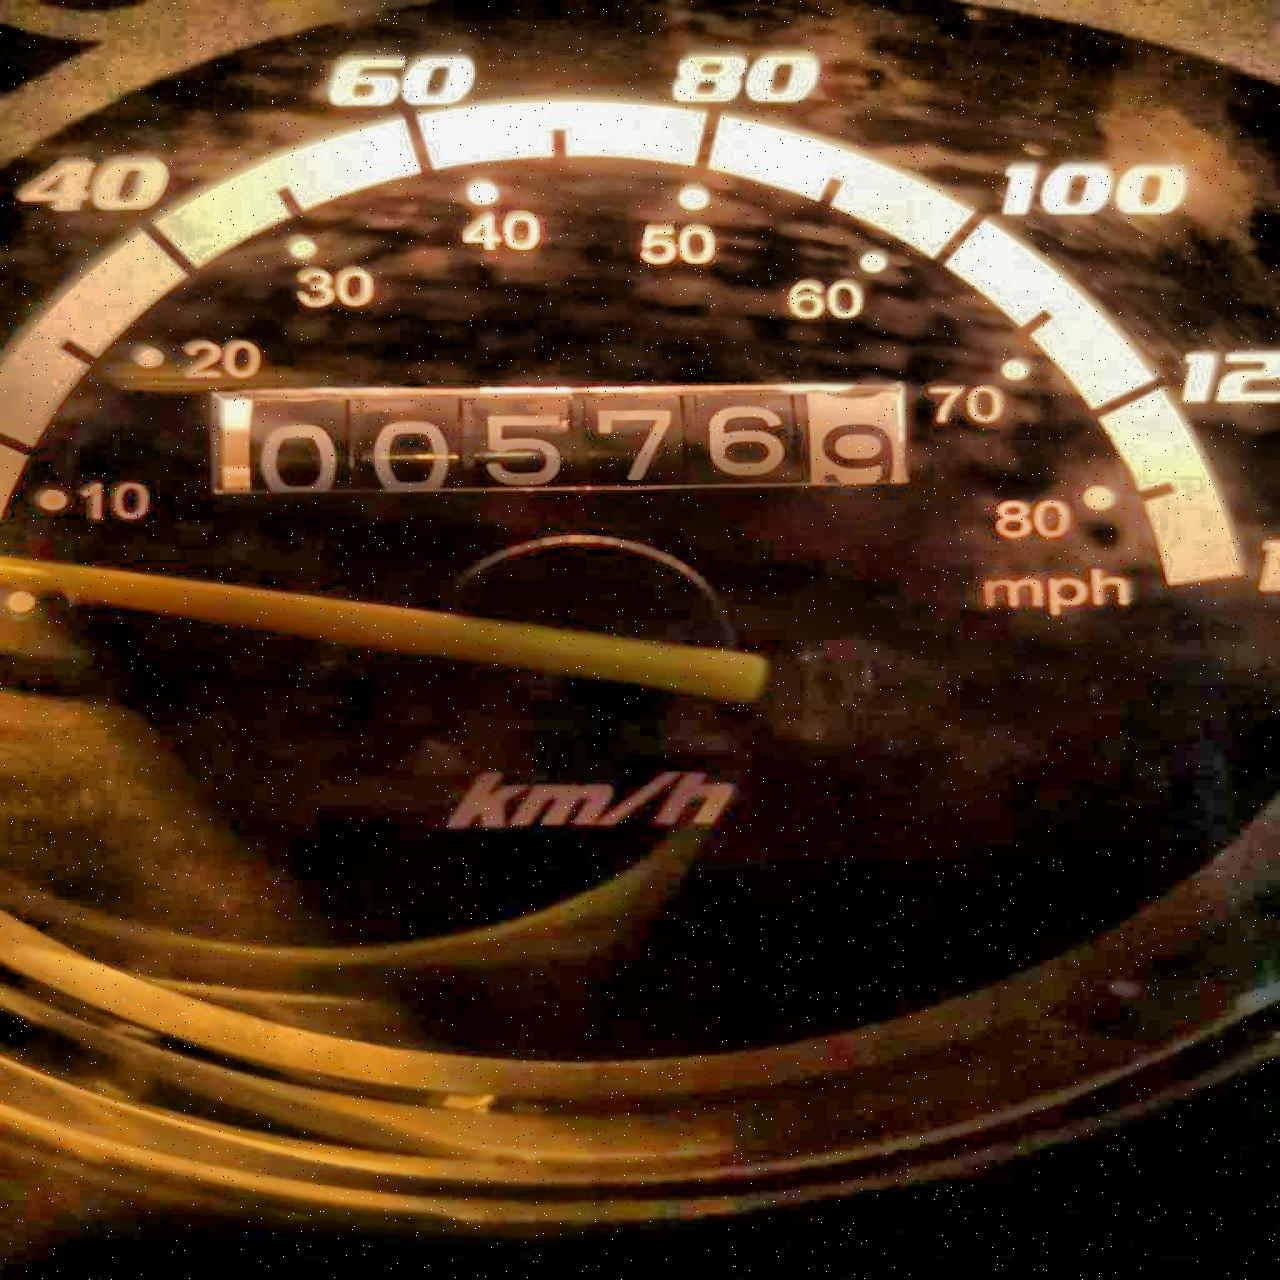0: (368, 411, 458, 493), (254, 414, 343, 495)
5: (482, 408, 568, 489)
6: (704, 402, 788, 477)
7: (586, 402, 676, 483)
9: (815, 414, 900, 489)
odometer: (198, 376, 919, 501)
